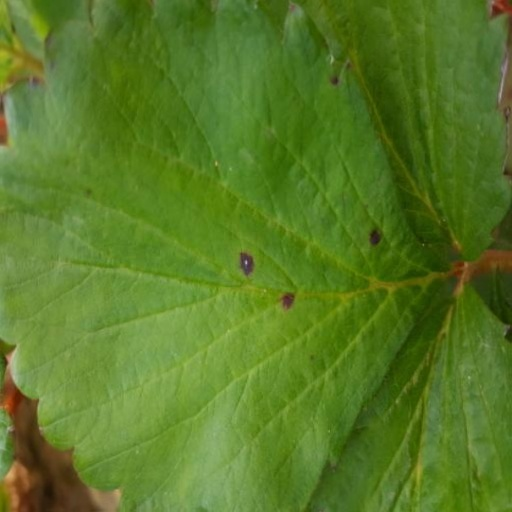Leaf Spot: (0, 0, 461, 511)
